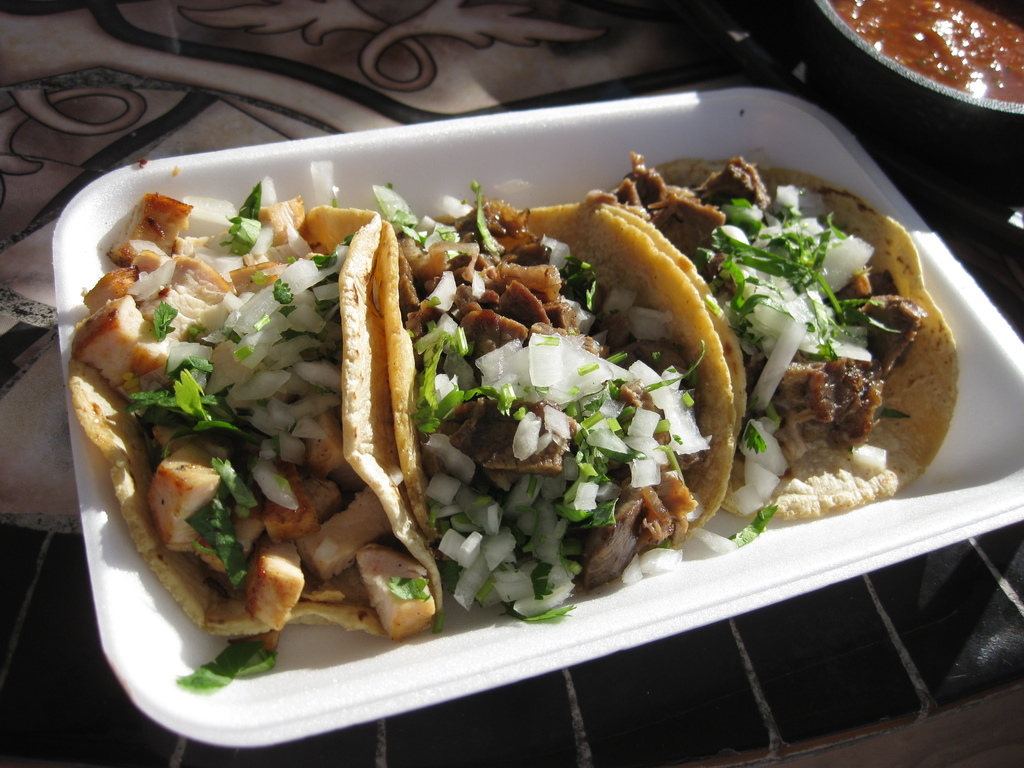taco: (68, 180, 447, 640), (392, 193, 727, 573), (638, 155, 972, 519)
